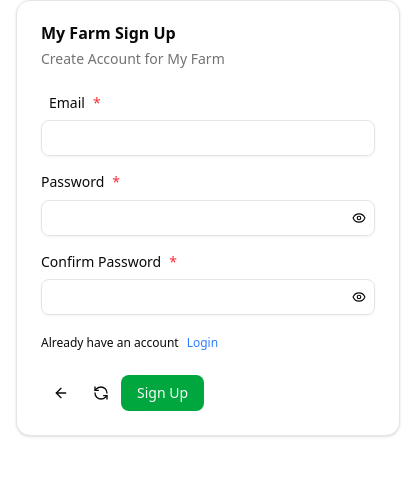
Reg Form Tests › check email Error
Type "hello" into the field labelled "Email *" at x=208, y=138, box [41,120,375,156]
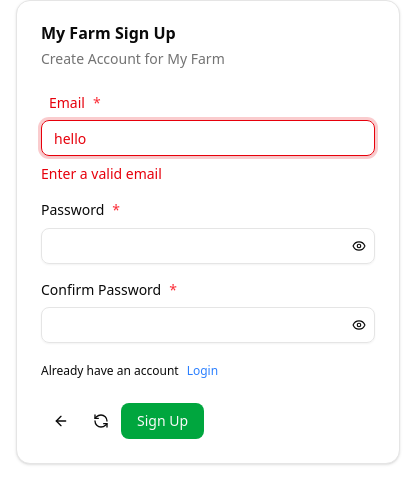
expect the text "Enter a valid email" is shown: met, box [41,164,162,183]
Type "test@test.com" into the field labelled "Email *" at x=208, y=138, box [41,120,375,156]
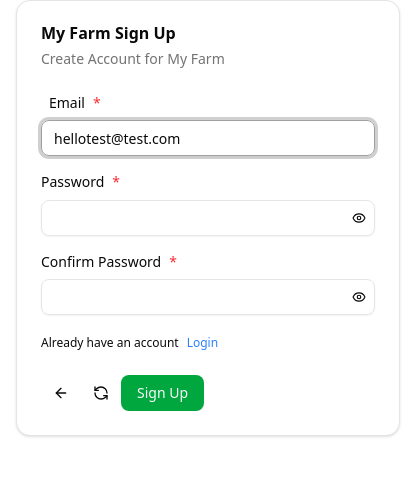
expect the text "Enter a valid email" is gone: met
